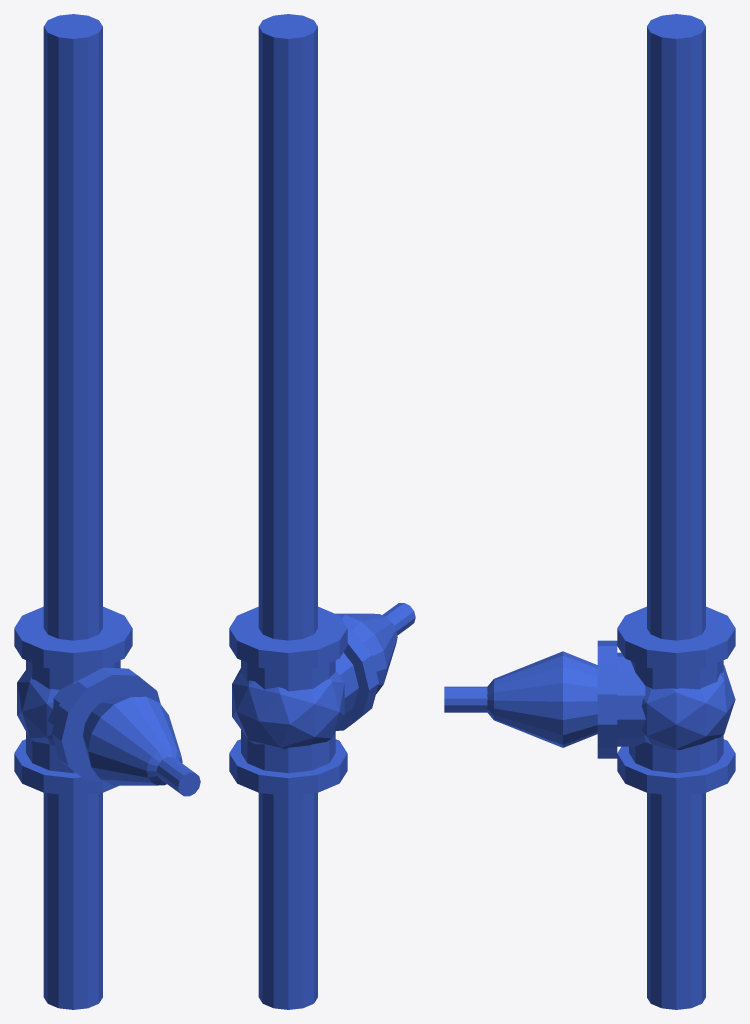
File: CRANK-ROOT-LINK_link_mesh.dae
3 views of the same model, side by side, from view 1: azimuth 30°, elevation 25°; view 2: azimuth 150°, elevation 25°; view 3: azimuth 270°, elevation 25° (orthographic).
Visible parts, largest first — view 1: CRANK-ROOT-LINK_link (×7); view 2: CRANK-ROOT-LINK_link (×8); view 3: CRANK-ROOT-LINK_link (×8).
Part boxes in pixels (x1,y1,x2,y2): CRANK-ROOT-LINK_link (×7): (14,14,200,1009); CRANK-ROOT-LINK_link (×8): (229,14,415,1009); CRANK-ROOT-LINK_link (×8): (444,14,735,1009).
Size of the model in its own units: 0.18 by 1.63 by 0.443.
